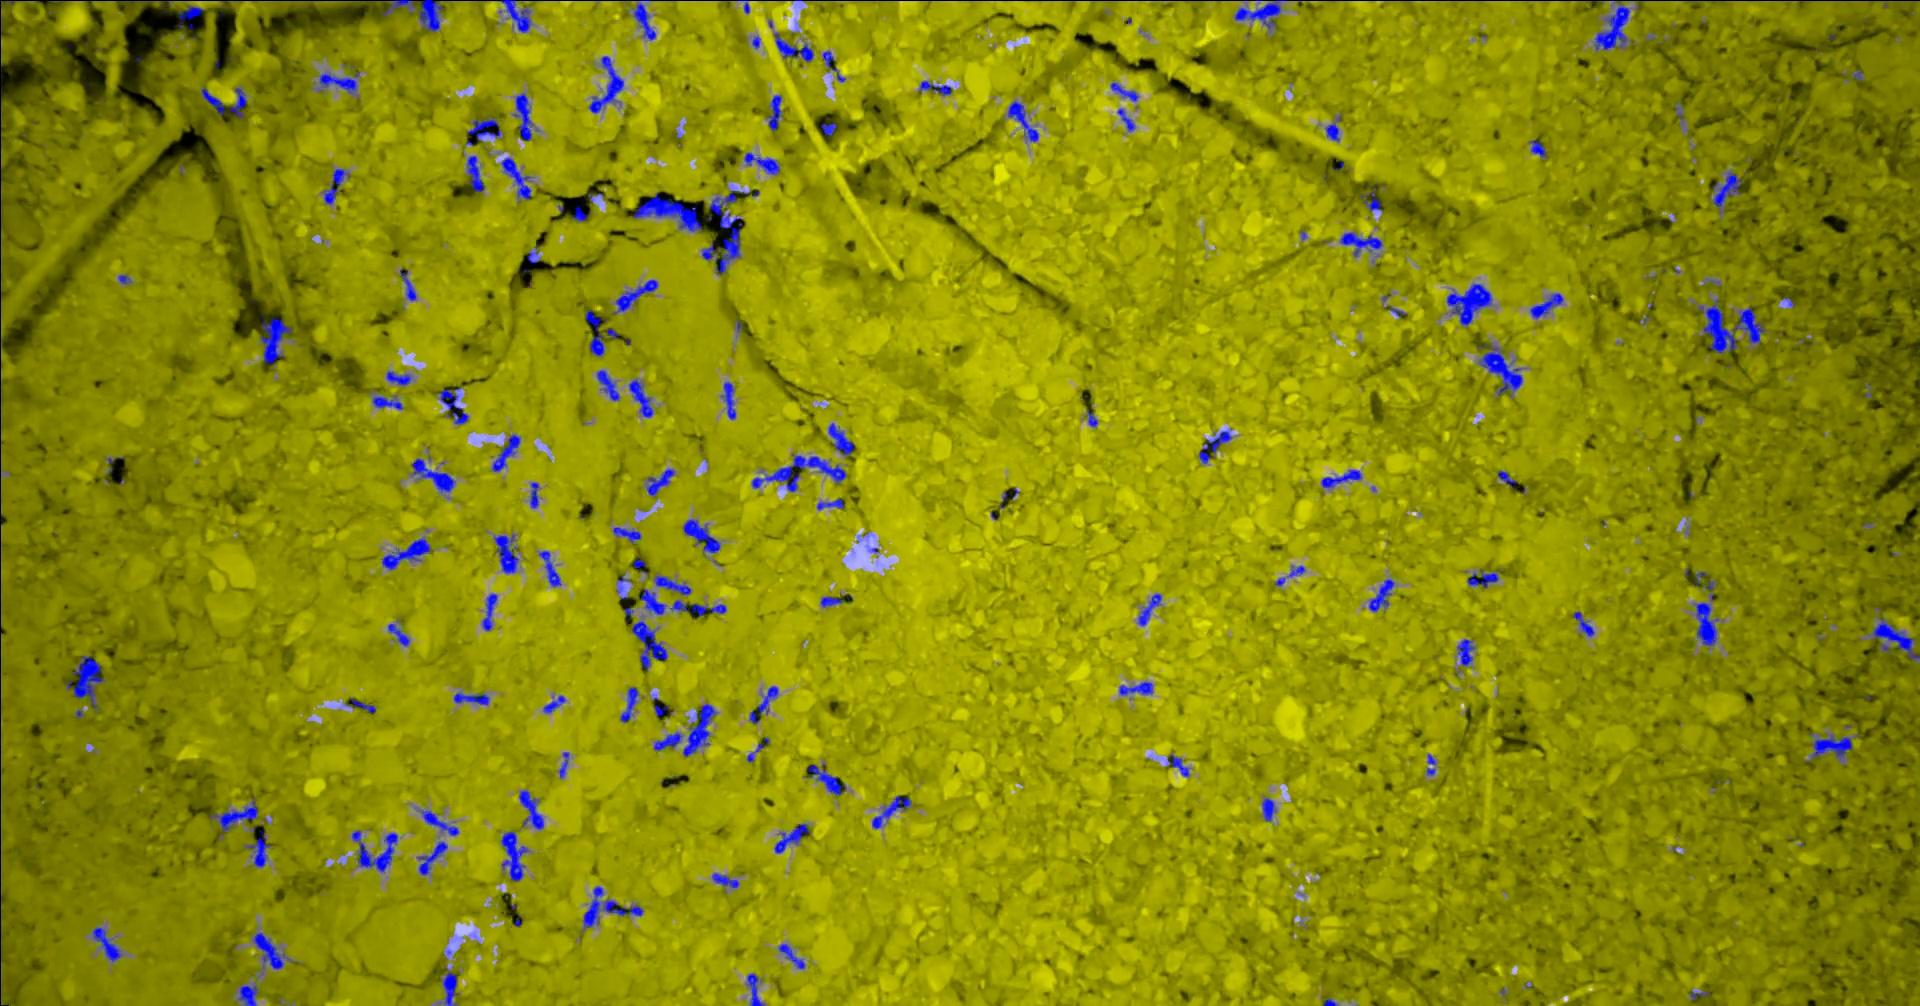ant: (750, 453, 846, 492), (632, 192, 701, 231), (354, 0, 442, 30), (582, 887, 643, 927), (1477, 343, 1523, 395), (1865, 617, 1919, 661), (65, 655, 104, 711), (588, 55, 623, 113), (350, 829, 397, 873), (210, 796, 258, 837), (1446, 282, 1491, 325), (682, 702, 716, 756), (1594, 0, 1629, 50), (631, 620, 667, 669), (259, 315, 292, 363), (381, 537, 430, 569), (1234, 0, 1285, 29), (613, 279, 657, 314), (411, 459, 455, 492), (500, 829, 527, 882), (871, 795, 910, 828), (1007, 100, 1037, 142), (500, 158, 531, 199), (682, 520, 720, 553), (251, 932, 284, 969), (808, 763, 844, 795), (773, 32, 813, 61), (1712, 171, 1740, 212), (1810, 734, 1851, 761), (491, 433, 521, 471), (749, 685, 778, 723), (1693, 602, 1718, 645), (1197, 431, 1230, 464), (439, 387, 469, 424), (417, 841, 447, 875), (1338, 232, 1382, 257), (91, 926, 121, 962), (518, 789, 543, 829), (775, 823, 808, 854), (493, 533, 518, 573), (419, 809, 458, 835), (323, 168, 349, 205), (500, 0, 531, 32), (245, 829, 270, 868), (584, 309, 604, 356), (513, 91, 532, 140), (629, 379, 653, 417), (632, 0, 655, 39), (1368, 578, 1394, 611), (319, 71, 359, 93), (828, 422, 853, 456), (669, 600, 726, 615), (467, 117, 502, 141), (1529, 293, 1563, 318), (538, 550, 560, 587), (646, 467, 674, 495), (743, 152, 778, 174), (1137, 593, 1161, 625), (822, 50, 844, 81), (1321, 469, 1361, 486), (596, 370, 618, 400), (654, 575, 690, 594), (639, 588, 665, 614), (618, 686, 637, 721), (777, 942, 804, 968), (439, 967, 457, 1005), (466, 155, 484, 192), (201, 86, 223, 114), (178, 5, 203, 29), (745, 737, 770, 762), (745, 973, 764, 1005), (1465, 569, 1498, 587), (1110, 81, 1138, 102), (229, 86, 246, 118), (399, 268, 417, 300), (481, 593, 497, 630), (1359, 187, 1382, 211), (1572, 611, 1594, 636), (766, 94, 781, 130), (721, 381, 735, 419), (1457, 638, 1476, 666), (653, 730, 681, 749), (917, 80, 951, 95), (387, 622, 409, 647), (1166, 754, 1189, 776), (1117, 681, 1152, 695), (453, 691, 489, 704), (345, 697, 375, 713), (372, 395, 403, 409), (612, 527, 640, 542), (237, 984, 258, 1005), (385, 370, 411, 385), (542, 695, 565, 713), (1117, 108, 1134, 131), (817, 497, 843, 511), (711, 873, 738, 887), (1261, 796, 1275, 821), (1529, 138, 1545, 158), (571, 205, 590, 221), (1497, 470, 1516, 486), (651, 697, 667, 716), (557, 751, 568, 779), (1324, 122, 1338, 141), (820, 596, 842, 607), (530, 481, 538, 508), (526, 246, 540, 263), (1286, 565, 1305, 577), (820, 122, 836, 136), (632, 558, 646, 572), (1426, 753, 1435, 775), (1086, 409, 1097, 426), (0, 892, 1, 962)
